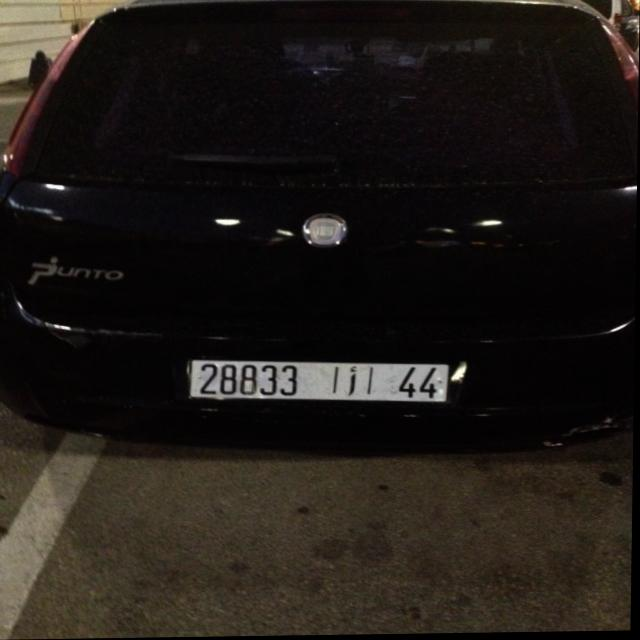License-Plate: (190, 360, 451, 403)
